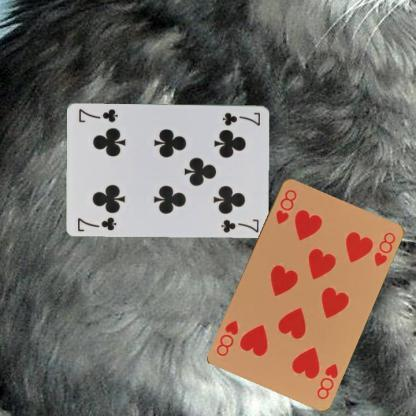7c: (75, 214, 119, 233), (220, 109, 261, 127)
8h: (314, 360, 340, 401), (273, 187, 298, 225)
